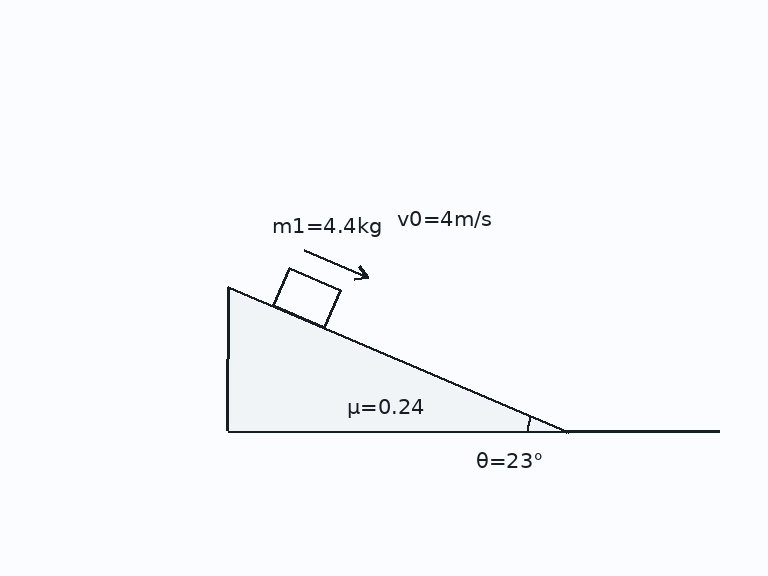block: (271, 266, 342, 329)
ramp: (226, 285, 570, 433)
